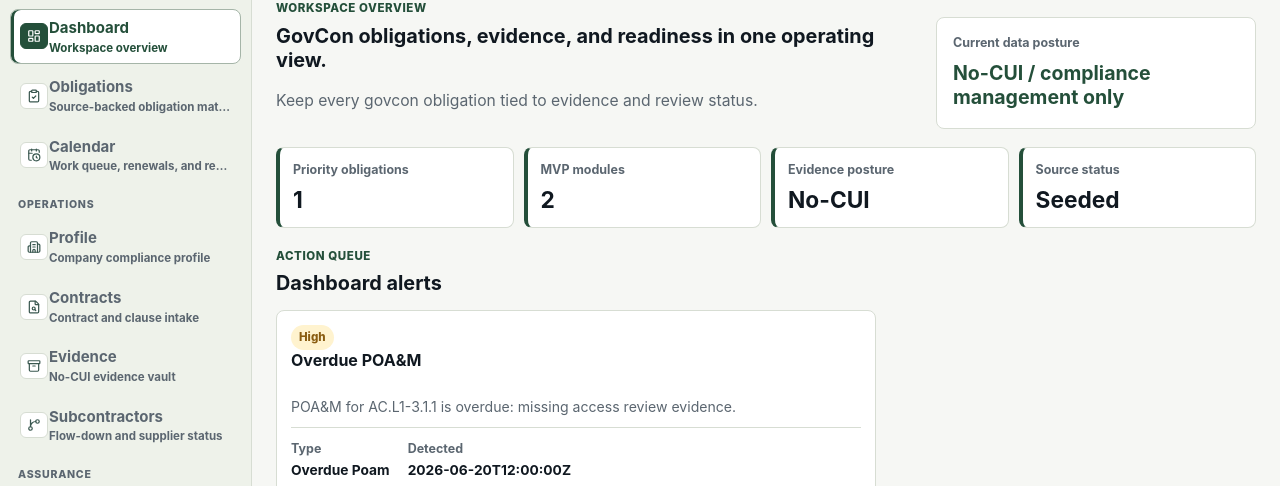
App › TC-18.3 exposes and saves the candidate edit form
(page scrolled)
Click the link "Contracts Contract and clause intake".
click(110, 306)  # box [20,288,199,325]
(page scrolled)
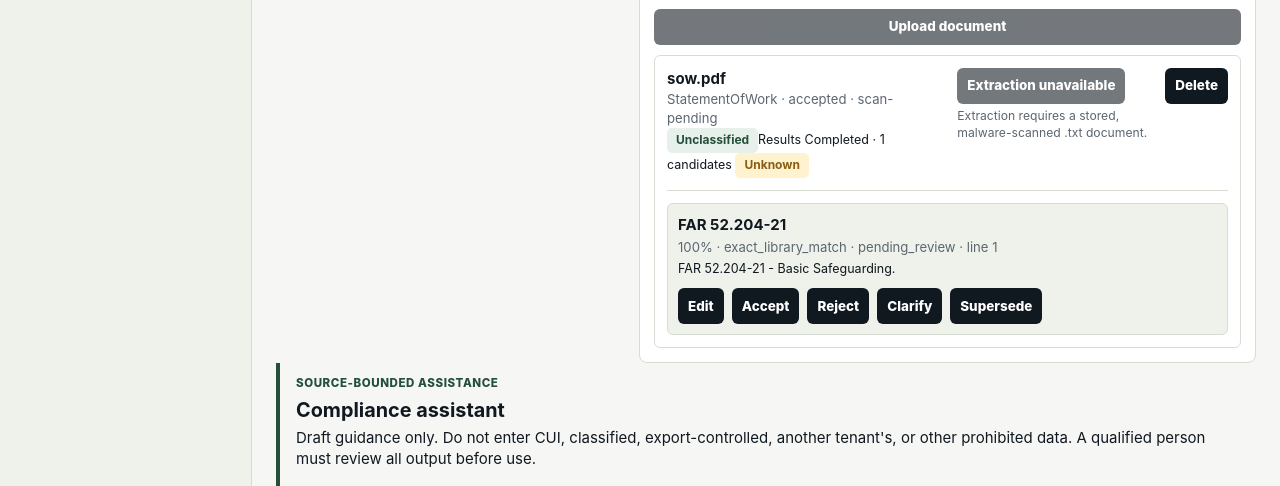
Click the button "Edit".
click(701, 306)  # box [678,288,724,324]
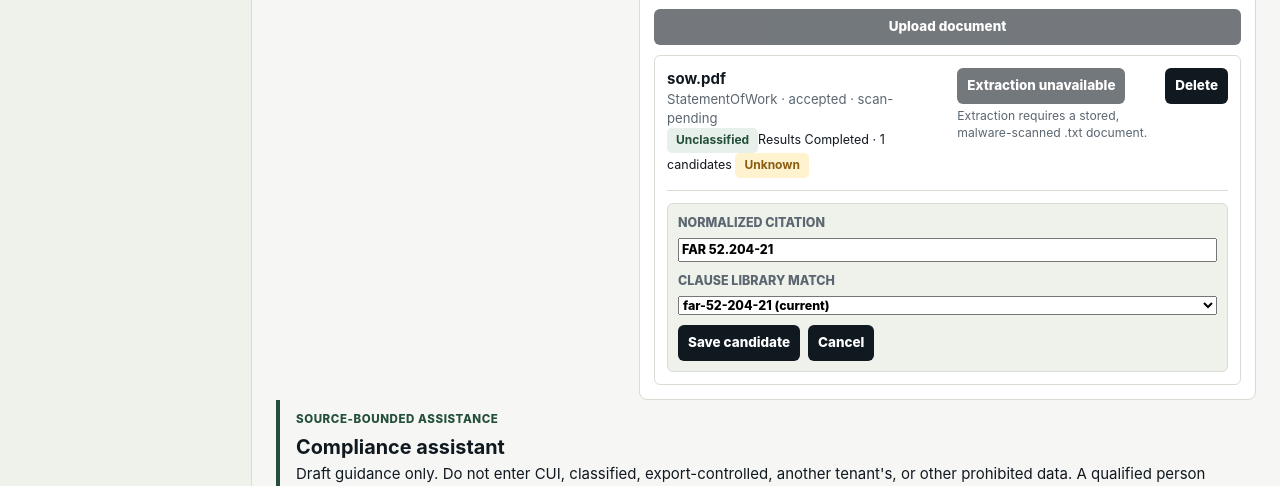
Replace the text in the field named "Normalized citation for FAR 52.204-21" with "FAR 52.204-21 synthetic correction" at (948, 250), box [678,238,1217,262]
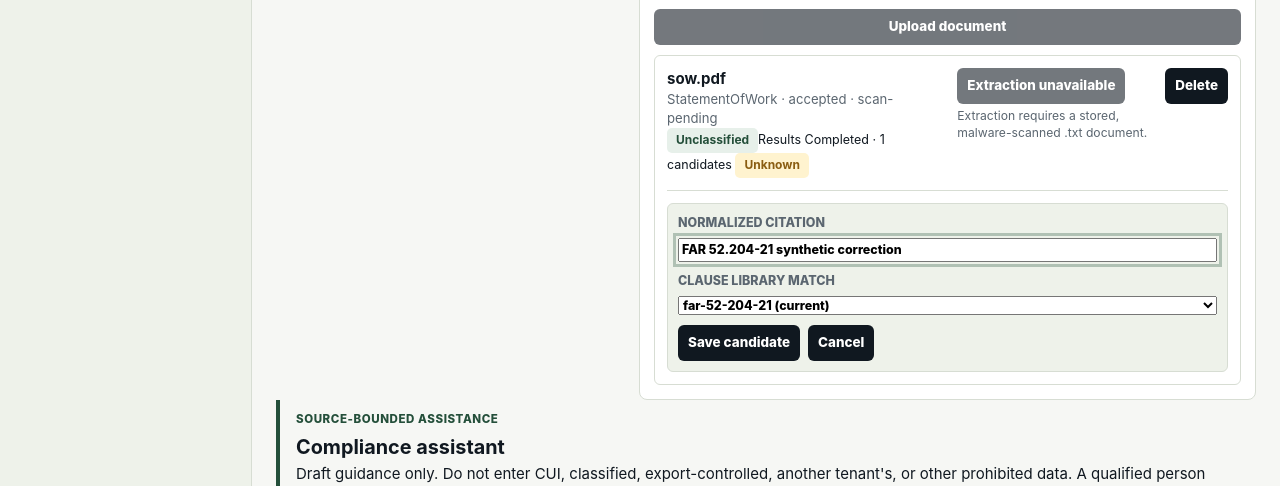
Click the button "Save candidate".
click(739, 343)  # box [678,325,800,361]
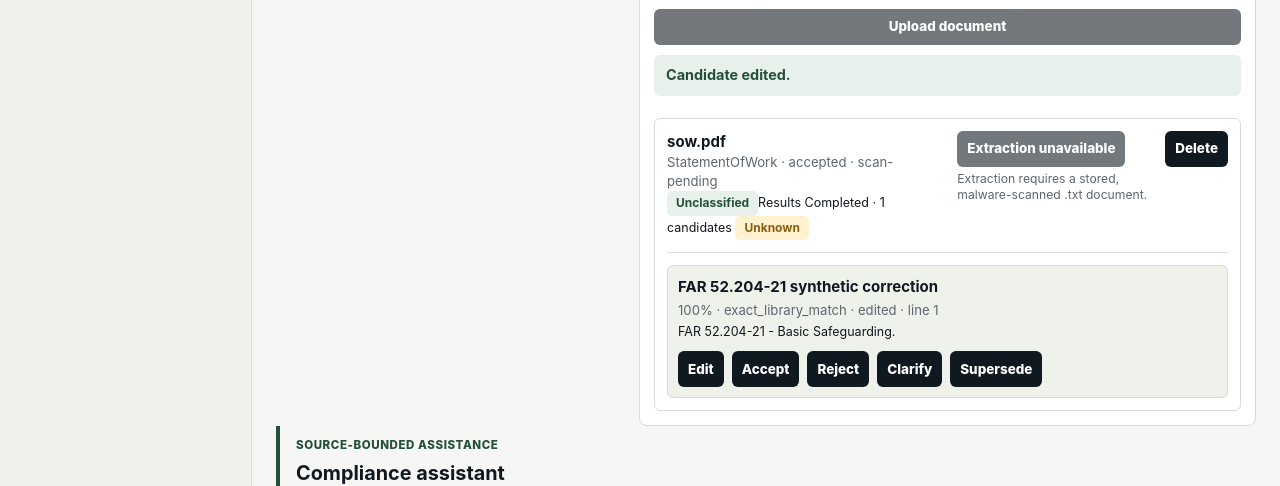
Result: the text "Candidate edited." is shown at [654,55,1241,96]
Result: the text "FAR 52.204-21 synthetic correction" is shown at [678,277,938,296]
